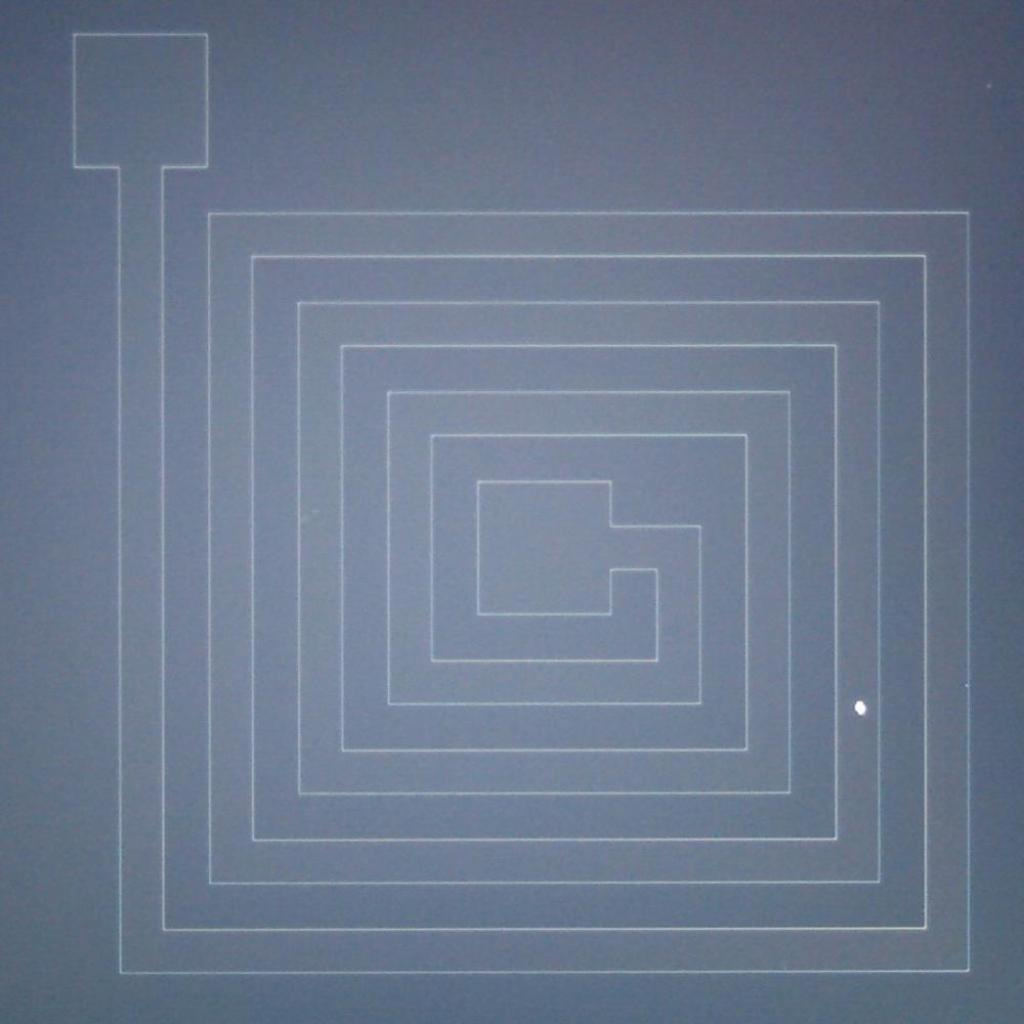dot: (852, 700, 868, 716)
